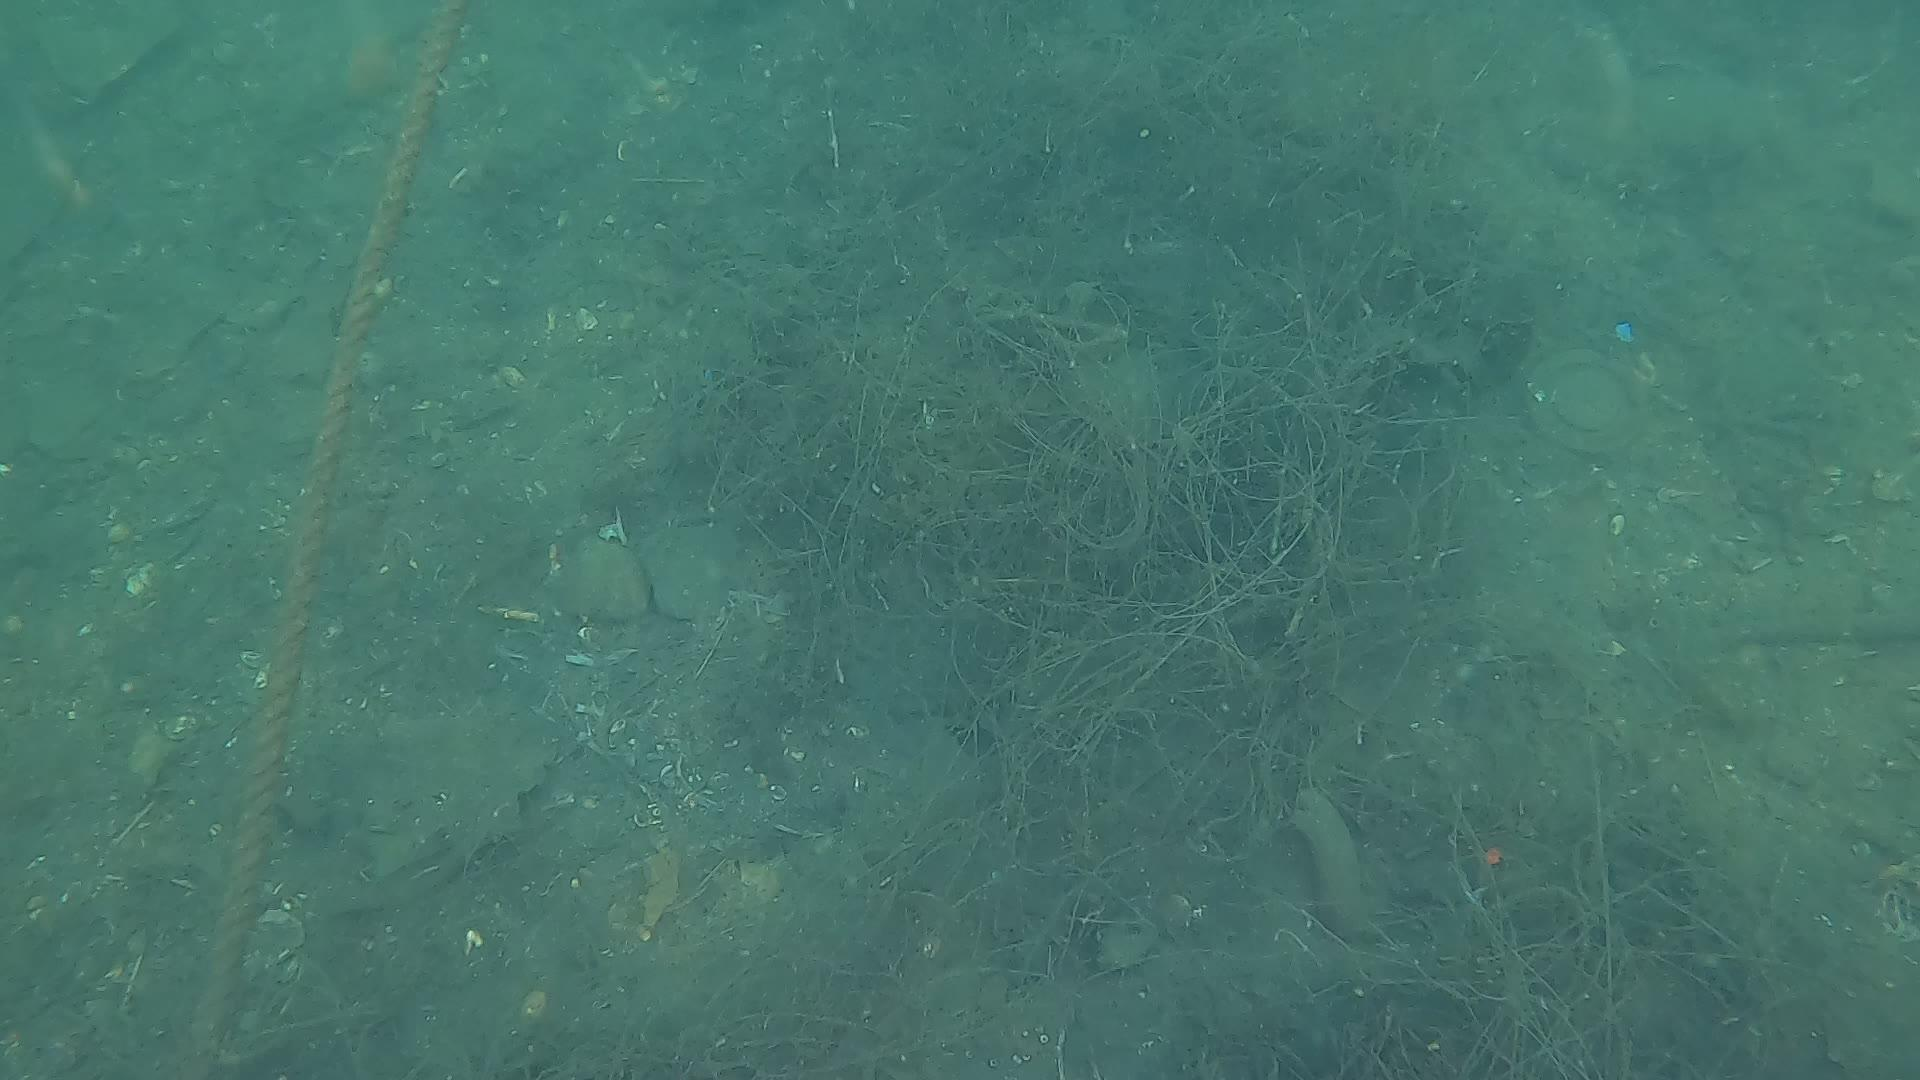rope: (181, 0, 469, 1080)
